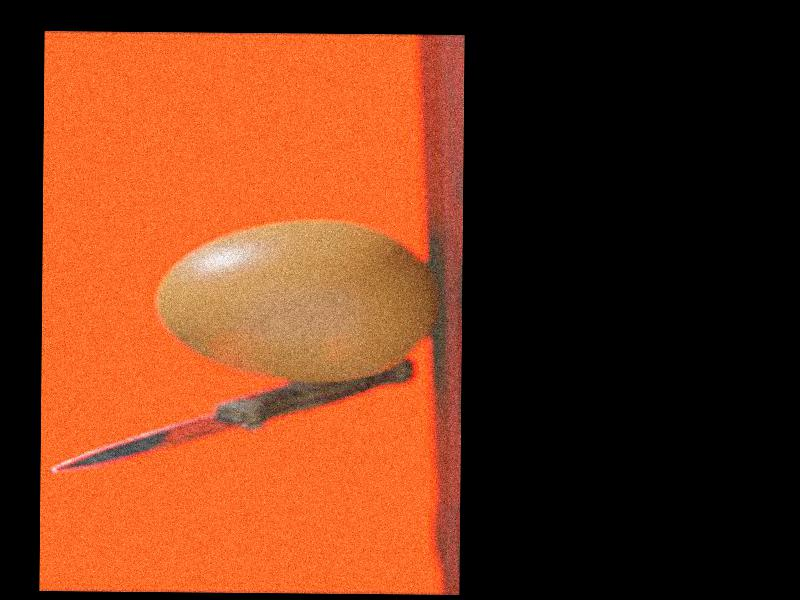Eggs: (159, 221, 433, 382)
